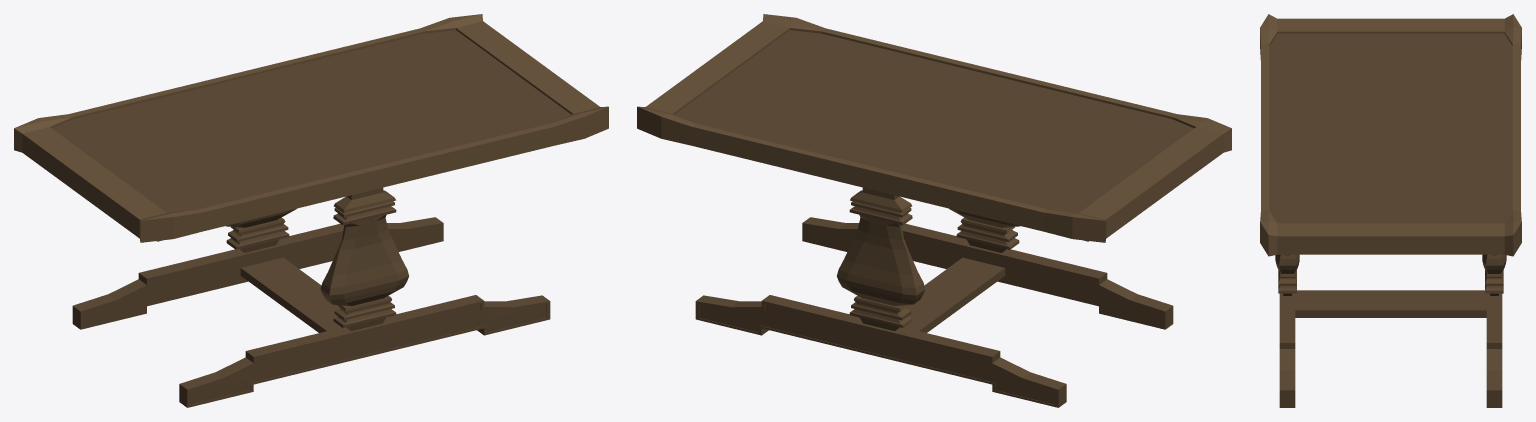
File: furn-dining-table-rectangle-6.glb
3 views of the same model, side by side, from view 1: azimuth 30°, elevation 25°; view 2: azimuth 150°, elevation 25°; view 3: azimuth 270°, elevation 25° (orthographic). The views are drawn at different scales.
Visible parts, largest first — view 1: Table2; view 2: Table2; view 3: Table2.
Boxes of the visible parts, x1,y1,x2,y2 form: Table2: [14, 14, 608, 407]; Table2: [637, 14, 1231, 407]; Table2: [1260, 14, 1521, 407].
Bounding box in the file's own units: 1.8 × 0.75 × 0.9.
